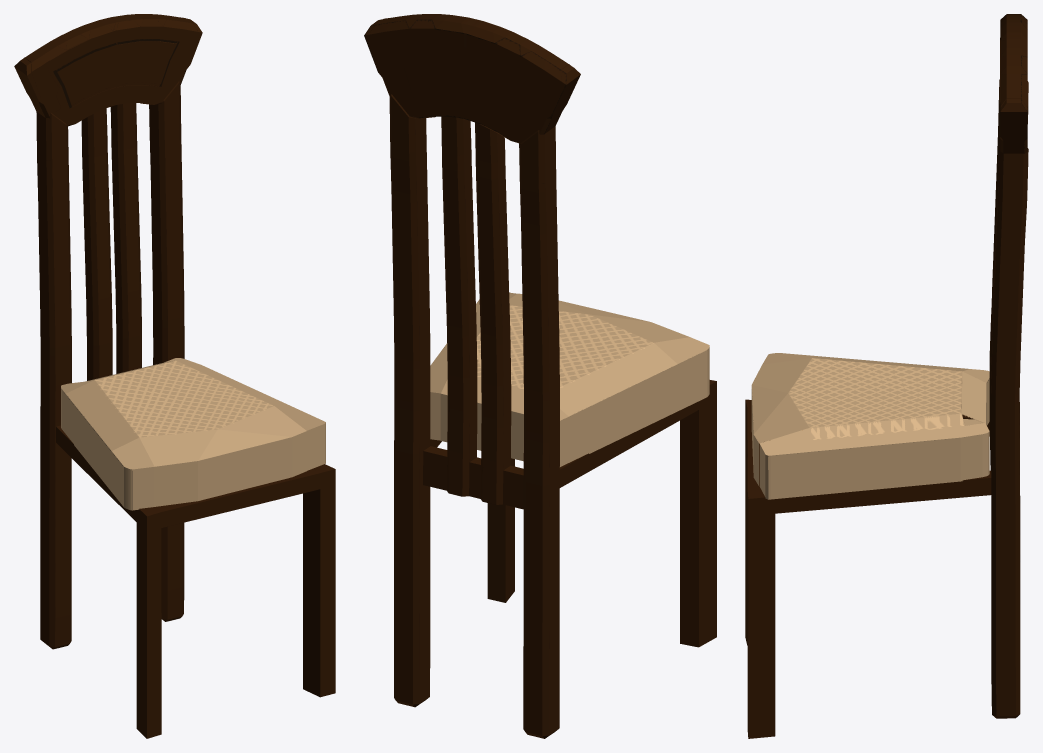
The model's file is oldChair.fbx.
3 renders of one model, left to right at view 1: azimuth 30°, elevation 25°; view 2: azimuth 150°, elevation 25°; view 3: azimuth 270°, elevation 25°, orthographic. The views are drawn at different scales.
Parts seen in each view (by area): view 1: Chair Frame, seat; view 2: Chair Frame, seat; view 3: Chair Frame, seat.
Boxes of the visible parts, box(x1,y1,x2,y2) form: Chair Frame: box(14, 14, 335, 738); seat: box(61, 358, 325, 510); Chair Frame: box(364, 14, 716, 738); seat: box(430, 292, 709, 466); Chair Frame: box(745, 14, 1028, 738); seat: box(751, 353, 989, 499).
Bounding box in the file's own units: 162 × 477 × 188.
